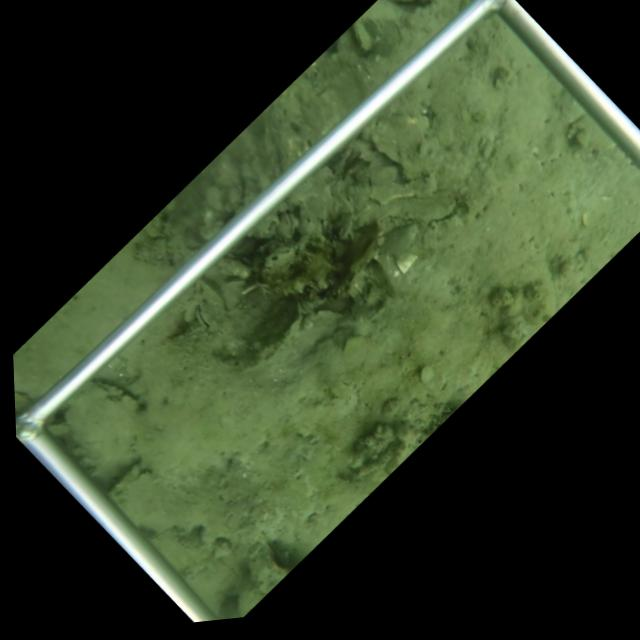Oyster-Closed: (81, 377, 149, 415), (351, 17, 376, 51), (297, 298, 314, 315)
Oyster-Indeterminate: (367, 107, 432, 185)
Oyster-Open: (370, 189, 461, 227), (192, 302, 214, 329)
